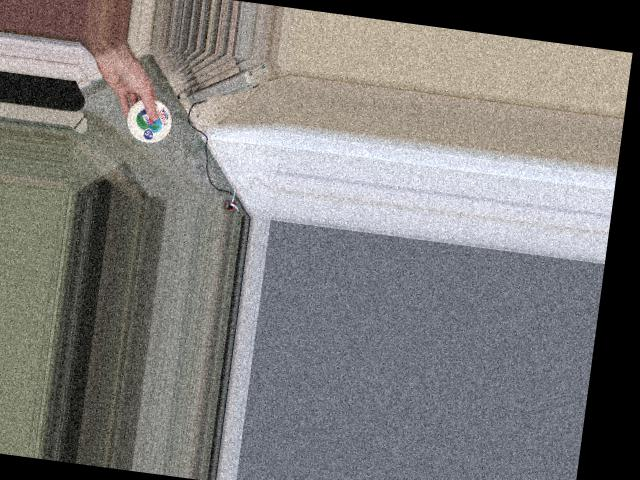cotage: (125, 96, 172, 142)
